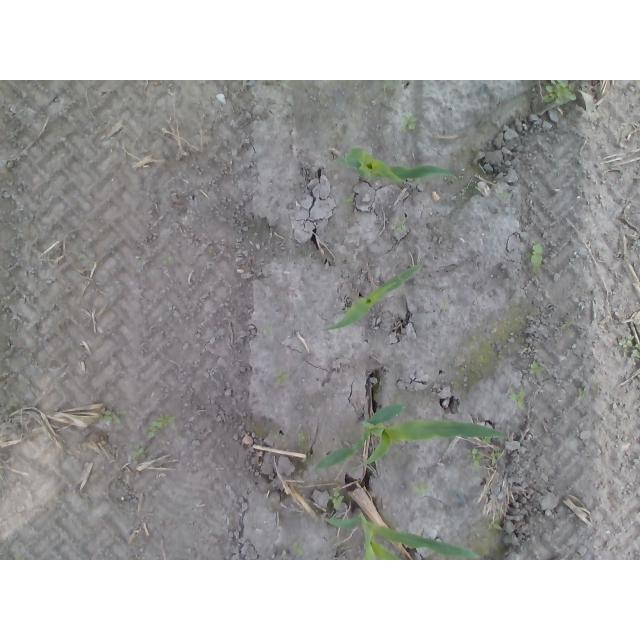Maize: (315, 404, 509, 468), (324, 512, 481, 561), (322, 265, 423, 332), (338, 147, 459, 185)
Weeds: (542, 80, 577, 106), (148, 413, 176, 439), (522, 243, 542, 276), (618, 334, 640, 358), (99, 409, 126, 423), (510, 390, 527, 410), (466, 449, 483, 468), (399, 115, 417, 132), (131, 444, 150, 460), (328, 492, 345, 509), (275, 371, 291, 388), (413, 482, 429, 499), (490, 446, 502, 467), (390, 219, 407, 233), (529, 361, 545, 375), (292, 541, 305, 555), (487, 520, 501, 532), (161, 252, 173, 265), (342, 193, 355, 204), (72, 250, 86, 260), (264, 325, 275, 337), (577, 388, 588, 399), (297, 430, 306, 442), (561, 320, 574, 328), (499, 190, 510, 198), (14, 556, 26, 560), (523, 342, 530, 346)
